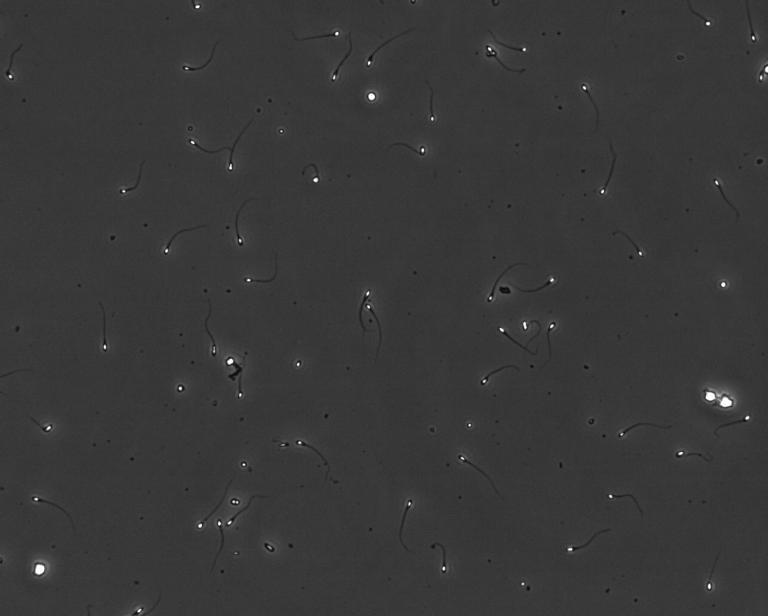cell: (713, 391, 738, 413), (28, 558, 51, 581), (699, 386, 720, 406)
